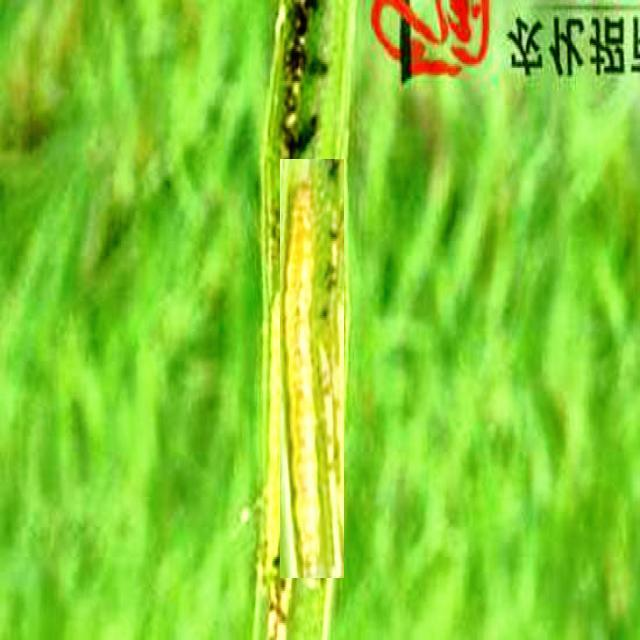leaf-folder: (280, 159, 344, 578)
